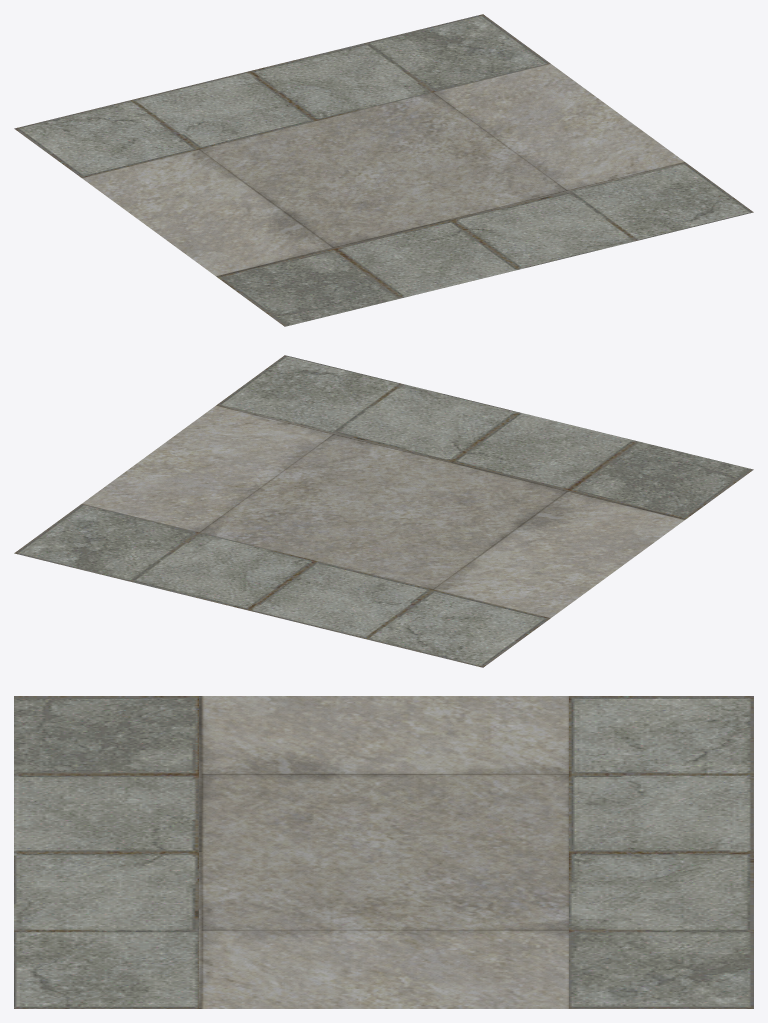
Rendered from floor_mix_2x2_b.fbx.
3 renders of one model, top to bottom at view 1: azimuth 30°, elevation 25°; view 2: azimuth 150°, elevation 25°; view 3: azimuth 270°, elevation 25°, orthographic. The views are drawn at different scales.
Parts seen in each view (by area): view 1: floor_mix_2x2_b; view 2: floor_mix_2x2_b; view 3: floor_mix_2x2_b.
Boxes of the visible parts, x1=… form: floor_mix_2x2_b: x1=14, y1=14, x2=753, y2=326; floor_mix_2x2_b: x1=14, y1=355, x2=753, y2=667; floor_mix_2x2_b: x1=14, y1=696, x2=753, y2=1008.
Bounding box in the file's own units: 200 × 2.88e-20 × 200.
